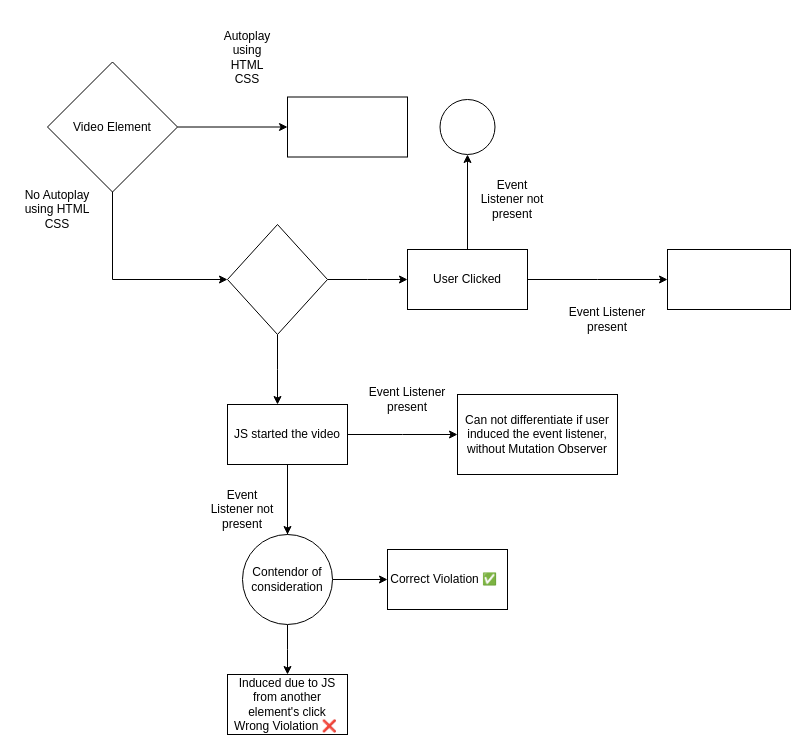
The diagram is 808 pixels wide and 752 high, and some of its shapes have lost their labels. Here are the shapes that lost their labels. From the top down, the box of each, then its label:
(286, 96, 408, 157): Autoplaying video - no controls - not paused
(439, 98, 495, 154): Case not possible
(226, 224, 328, 334): video is running
(666, 248, 790, 310): Not a violation.
